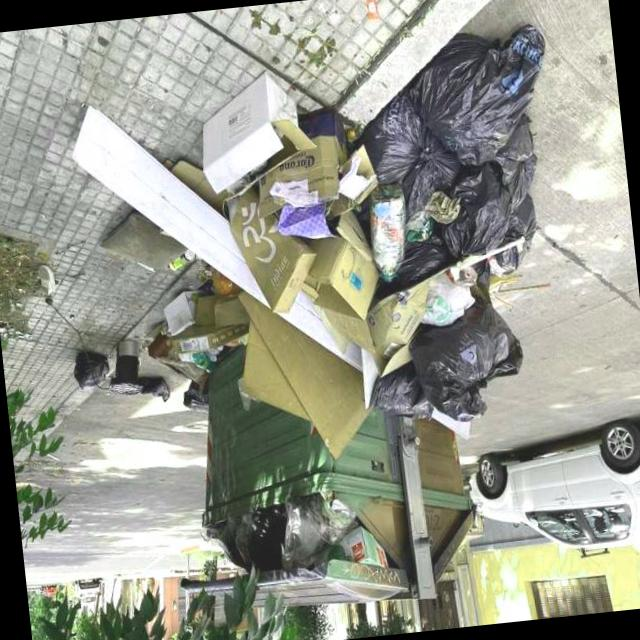high trash: (74, 26, 544, 457)
